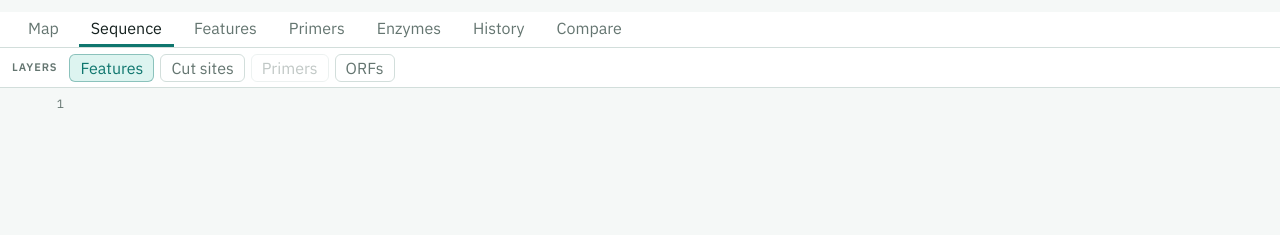
Test case: WorkspaceCenter View Switching › keeps the empty primer view focused on the next available action
This screenshot has width=1280, height=235.
What coordinates should you click on to do the following:
click the tab "Primers"
I would click on:
 (317, 29)
Its box is [277,11,357,47].
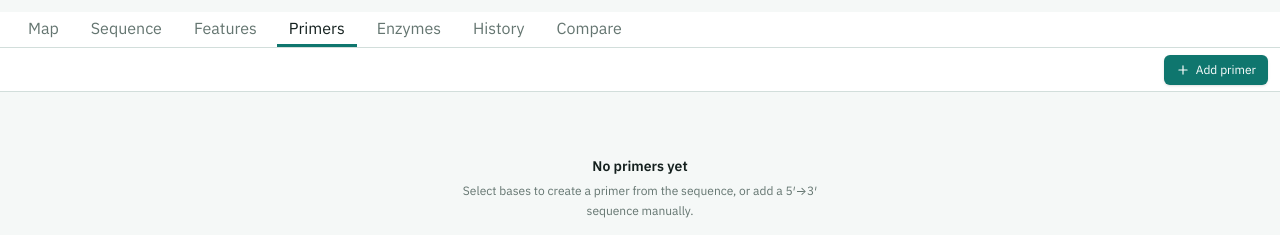
Now the heading "No primers yet" is shown, box [592,156,688,177]
Now the button "Add primer" is shown, box [1164,54,1268,84]
